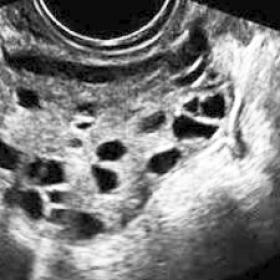PCOS: (57, 209, 103, 241), (13, 187, 49, 221), (29, 155, 65, 186), (203, 89, 229, 125), (174, 120, 218, 141), (15, 85, 45, 113), (151, 150, 185, 172), (94, 168, 120, 196), (3, 139, 21, 177), (204, 63, 231, 88), (139, 113, 172, 133), (100, 140, 128, 158), (79, 103, 102, 118), (185, 94, 201, 115), (77, 118, 95, 134), (66, 136, 84, 149)
